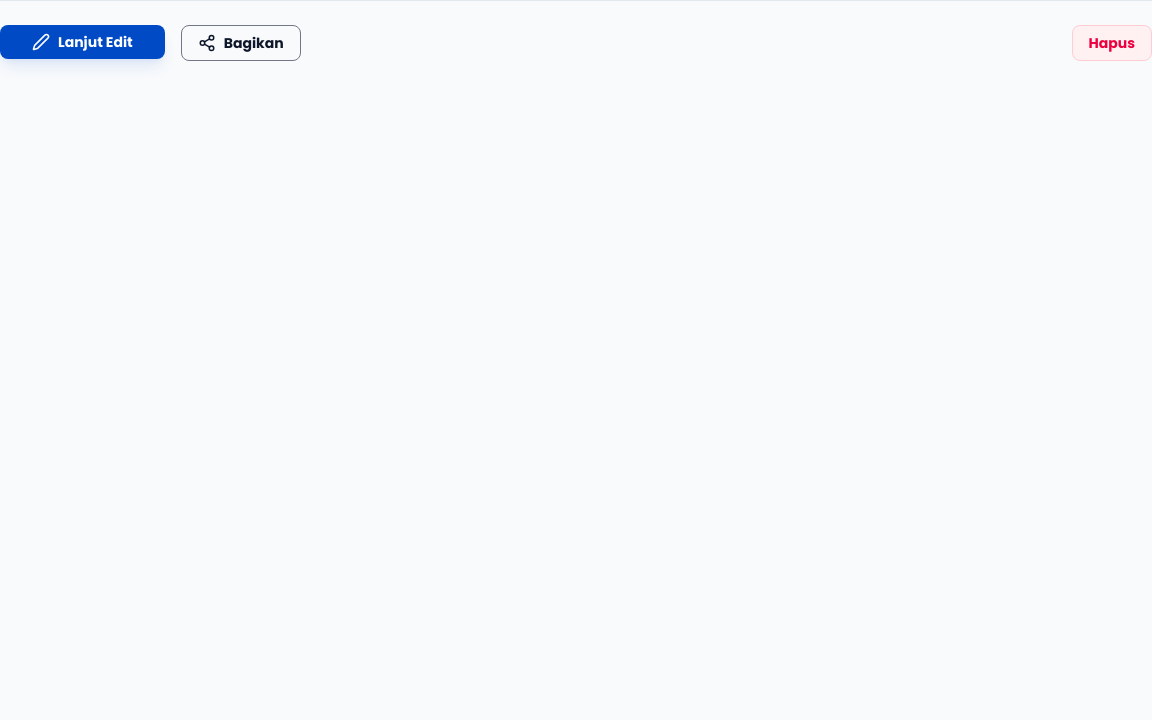
Test: AdminSurveyCardActions — survei terbit › kartu DRAF: dialognya tidak lagi menjanjikan penghapusan permanen
What coordinates should you click on to do the following:
click the button "Hapus"
I would click on:
 (1112, 43)
Its box is [1072,25,1151,61].
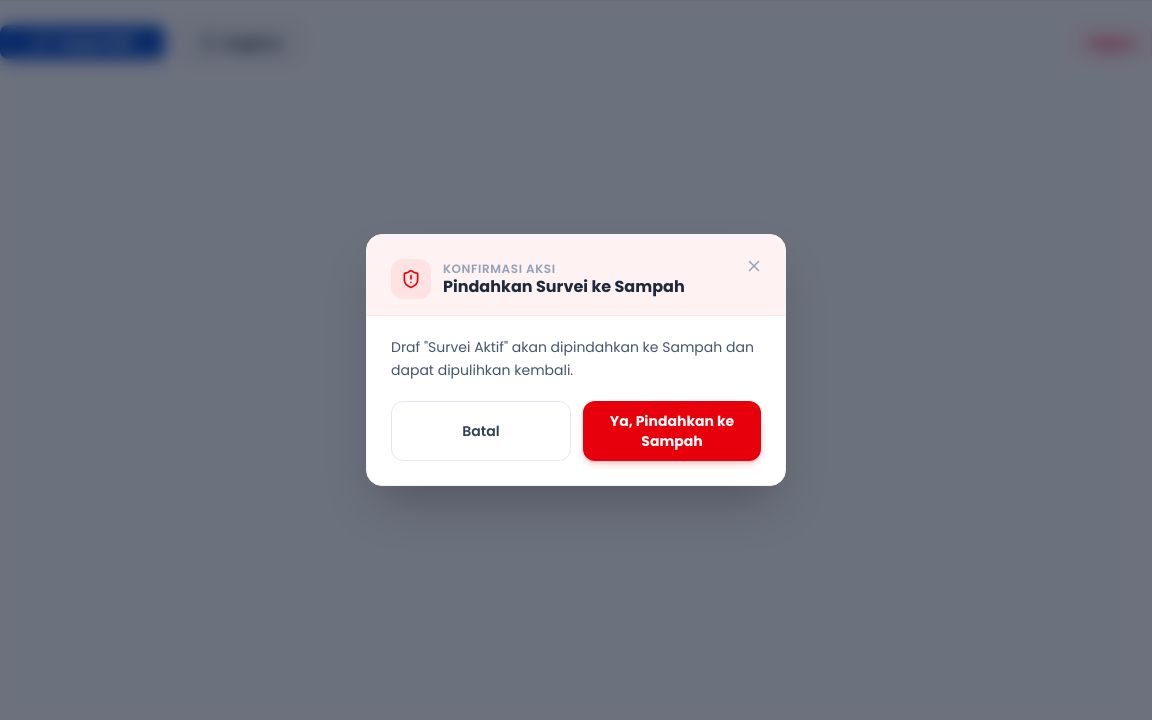
Check: the text "dipindahkan ke Sampah dan dapat dipulihkan" is shown, box [391,337,754,380]
